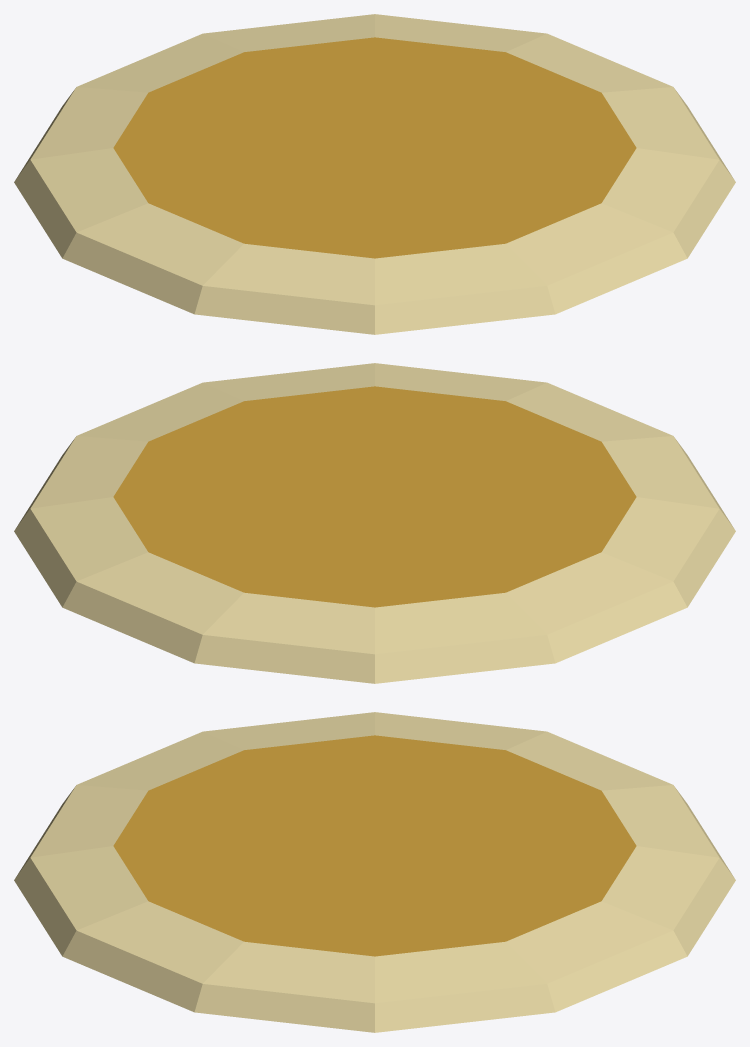
File: tower_hoduck.glb
3 renders of one model, top to bottom at view 1: azimuth 30°, elevation 25°; view 2: azimuth 150°, elevation 25°; view 3: azimuth 270°, elevation 25°, orthographic.
Parts seen in each view (by area): view 1: Cube; view 2: Cube; view 3: Cube.
Boxes of the visible parts, x1=… form: Cube: x1=14, y1=14, x2=735, y2=334; Cube: x1=14, y1=363, x2=735, y2=683; Cube: x1=14, y1=712, x2=735, y2=1032.
Size of the model in its own units: 2 by 0.1051 by 2.
